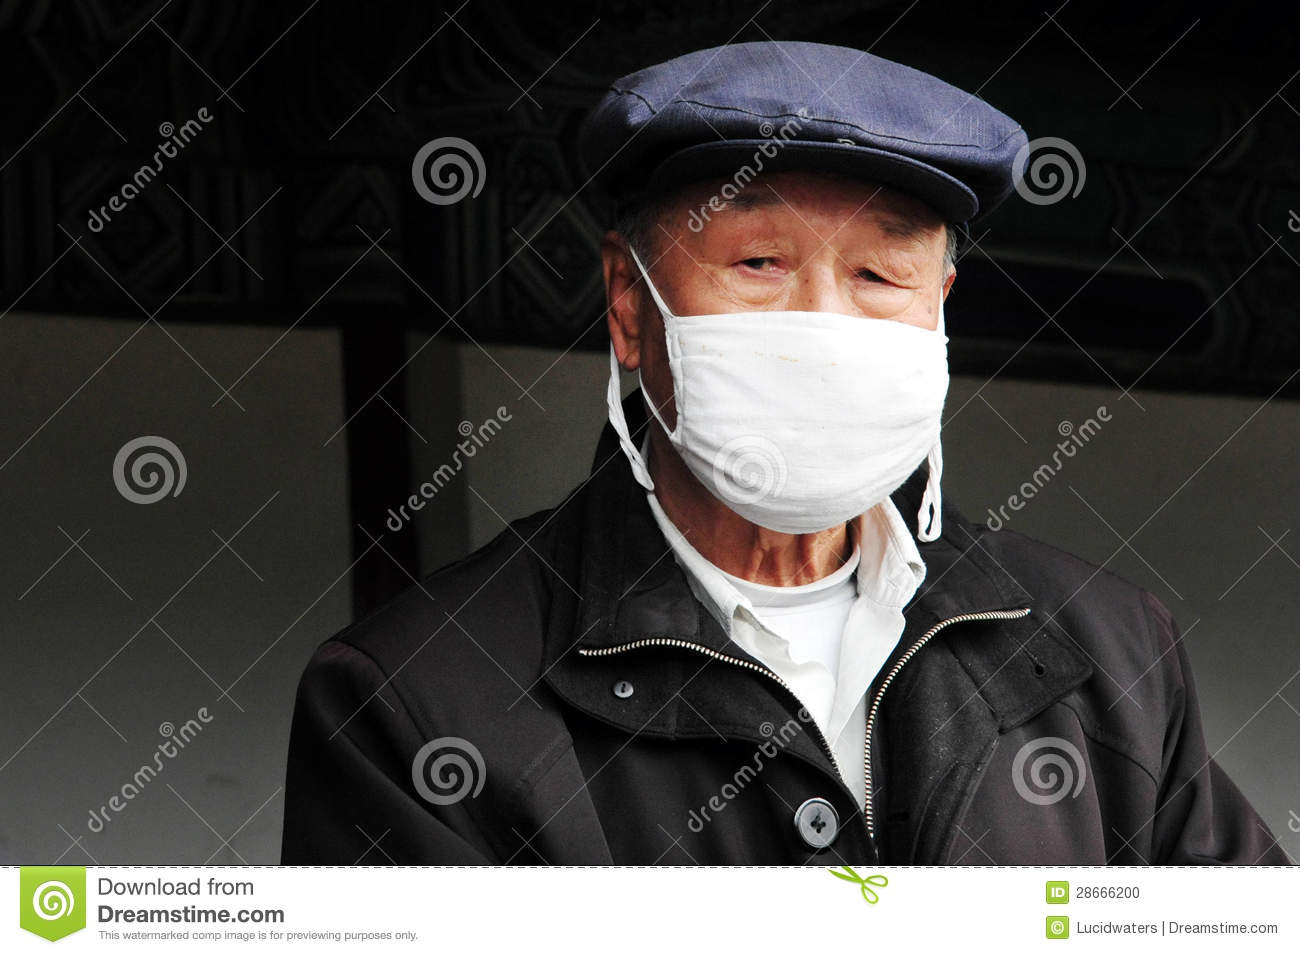mask: (660, 306, 963, 545)
